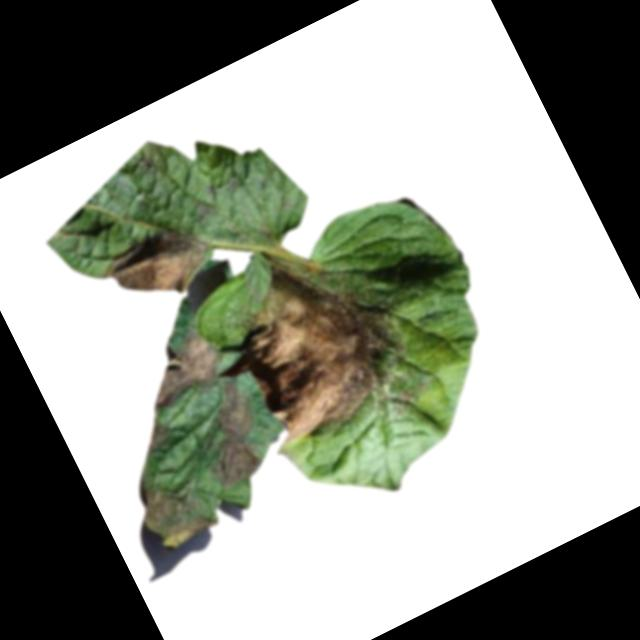Late_blight: (207, 226, 422, 452), (96, 209, 224, 319), (177, 375, 280, 493), (123, 461, 223, 560), (137, 320, 234, 411), (134, 413, 177, 457)
